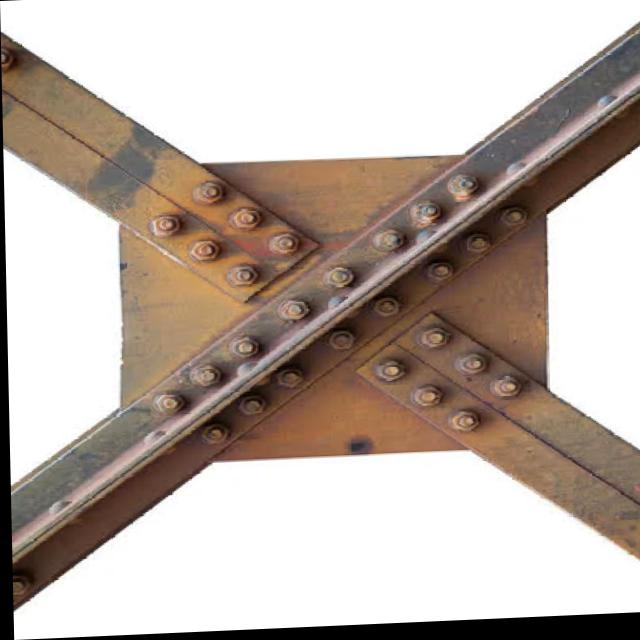Rusty bolt: (153, 391, 188, 418), (322, 269, 357, 292), (150, 214, 182, 239), (449, 177, 481, 202), (191, 240, 221, 266), (228, 339, 259, 364), (275, 368, 306, 393), (190, 366, 220, 391), (426, 264, 456, 289), (450, 416, 482, 439), (229, 264, 258, 289), (375, 231, 404, 256), (412, 204, 441, 229), (237, 395, 266, 420), (200, 423, 229, 448), (376, 363, 405, 388), (328, 330, 356, 355), (195, 183, 225, 206), (280, 301, 310, 324), (418, 331, 448, 354), (271, 236, 302, 258), (413, 389, 444, 411), (500, 210, 529, 233), (374, 298, 403, 321), (11, 571, 32, 601), (494, 380, 521, 403), (232, 211, 261, 232), (458, 358, 485, 380), (465, 237, 490, 258), (2, 42, 13, 77)
